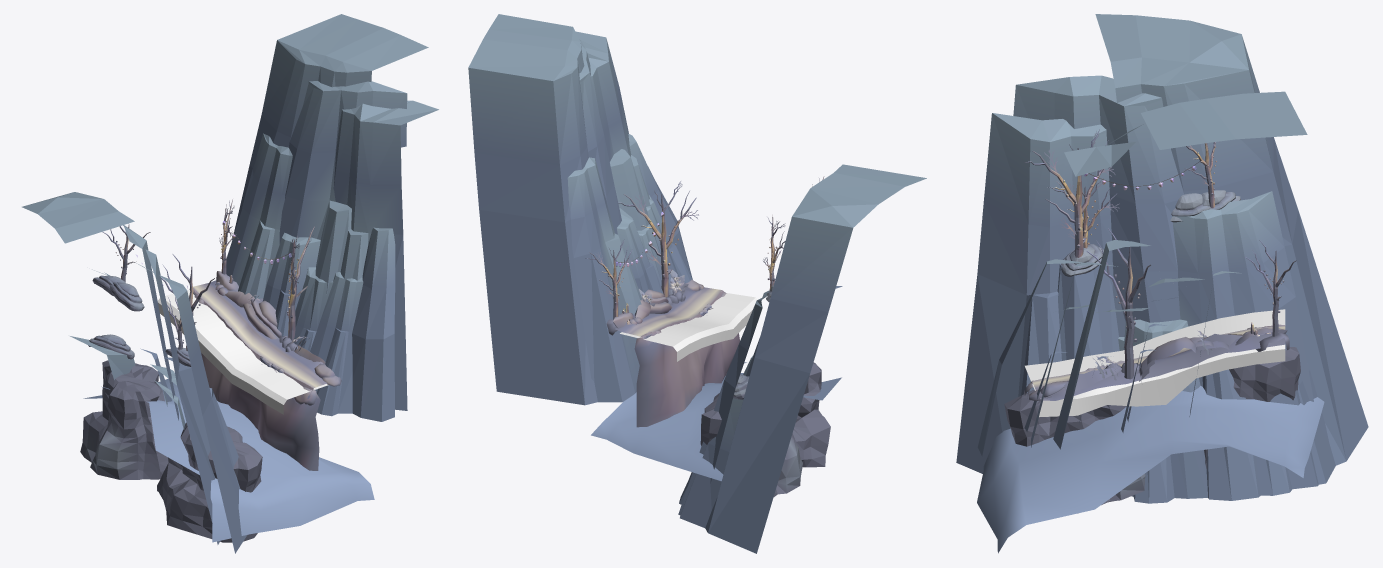
Rendered from Arctic_Narrows_Left_Curve_Left_10_A.glb.
3 renders of one model, left to right at view 1: azimuth 30°, elevation 25°; view 2: azimuth 150°, elevation 25°; view 3: azimuth 270°, elevation 25°, orthographic. The views are drawn at different scales.
Visible parts, largest first — view 1: Arctic_Narrows_Left_IceWall_A01, Arctic_Narrows_Left_Curve_Left_10_A, Arctic_Narrows_Left_IceWall_A01_Right, Arctic_Narrows_Right_IceWall_A01, Arctic_Narrows_Left_IceWall_A01_Left, inv_fill, Arctic_Narrows_Big_Rock_A01_Top (×2), Arctic_Narrows_Big_Rock_A01_Mid (×2), Arctic_Narrows_Big_Rock_A01 (2), Arctic_Narrows_Left_IceWall_A01_Mid, Arctic_Narrows_Big_Rock_A01 (3), Arctic_Narrows_Right_IceWall_A01_Right (+2 smaller); view 2: Arctic_Narrows_Left_IceWall_A01, Arctic_Narrows_Right_IceWall_A01, Arctic_Narrows_Left_Curve_Left_10_A, Arctic_Narrows_Left_IceWall_A01_Left, inv_fill, Arctic_Narrows_Left_IceWall_A01_Right, Arctic_Narrows_Right_IceWall_A01_Right, Arctic_Narrows_Right_IceWall_A01_Mid, Arctic_Narrows_Left_IceWall_A01_Mid, Arctic_Narrows_Big_Rock_A01_Mid, Arctic_Narrows_Big_Rock_A01 (3), Arctic_Narrows_Big_Rock_A01 (2) (+2 smaller); view 3: Arctic_Narrows_Right_IceWall_A01, Arctic_Narrows_Left_Curve_Left_10_A, Arctic_Narrows_Right_IceWall_A01_Mid, Arctic_Narrows_Left_IceWall_A01, inv_fill, Arctic_Narrows_Big_Rock_A01_Top (×2), Arctic_Narrows_Right_IceWall_A01_Right, Arctic_Narrows_Left_IceWall_A01_Right, Arctic_Narrows_Big_Rock_A01_Mid (×2), Arctic_BirchA_holiday, Arctic_BirchA_holiday (1).
Boxes of the visible parts, box(x1,y1,x2,y2) form: Arctic_Narrows_Left_IceWall_A01: box(233, 14, 438, 410); Arctic_Narrows_Left_Curve_Left_10_A: box(83, 271, 374, 542); Arctic_Narrows_Left_IceWall_A01_Right: box(293, 227, 395, 421); Arctic_Narrows_Right_IceWall_A01: box(22, 192, 247, 553); Arctic_Narrows_Left_IceWall_A01_Left: box(226, 133, 292, 298); inv_fill: box(157, 289, 328, 414); Arctic_Narrows_Big_Rock_A01_Top (×2): box(102, 360, 262, 487); Arctic_Narrows_Big_Rock_A01_Mid (×2): box(93, 384, 261, 507); Arctic_Narrows_Big_Rock_A01 (2): box(80, 412, 168, 479); Arctic_Narrows_Left_IceWall_A01_Mid: box(262, 232, 320, 336); Arctic_Narrows_Big_Rock_A01 (3): box(157, 472, 257, 542); Arctic_Narrows_Right_IceWall_A01_Right: box(70, 336, 135, 380); Arctic_Narrows_Left_IceWall_A01: box(468, 14, 652, 405); Arctic_Narrows_Right_IceWall_A01: box(705, 164, 926, 553); Arctic_Narrows_Left_Curve_Left_10_A: box(591, 279, 841, 481); Arctic_Narrows_Left_IceWall_A01_Left: box(567, 157, 641, 402); inv_fill: box(620, 293, 757, 361); Arctic_Narrows_Left_IceWall_A01_Right: box(628, 134, 692, 294); Arctic_Narrows_Right_IceWall_A01_Right: box(679, 398, 743, 527); Arctic_Narrows_Right_IceWall_A01_Mid: box(678, 290, 769, 515); Arctic_Narrows_Left_IceWall_A01_Mid: box(617, 207, 663, 293); Arctic_Narrows_Big_Rock_A01_Mid: box(792, 389, 830, 441); Arctic_Narrows_Big_Rock_A01 (3): box(795, 427, 830, 467); Arctic_Narrows_Big_Rock_A01 (2): box(691, 448, 802, 496); Arctic_Narrows_Right_IceWall_A01: box(956, 14, 1368, 473); Arctic_Narrows_Left_Curve_Left_10_A: box(977, 326, 1324, 553); Arctic_Narrows_Right_IceWall_A01_Mid: box(1118, 191, 1318, 503); Arctic_Narrows_Left_IceWall_A01: box(1031, 91, 1307, 449); inv_fill: box(1025, 309, 1285, 417); Arctic_Narrows_Big_Rock_A01_Top (×2): box(1004, 347, 1300, 437); Arctic_Narrows_Right_IceWall_A01_Right: box(1256, 363, 1335, 495); Arctic_Narrows_Left_IceWall_A01_Right: box(977, 259, 1185, 456); Arctic_Narrows_Big_Rock_A01_Mid (×2): box(1011, 380, 1298, 446); Arctic_BirchA_holiday: box(1108, 228, 1134, 379); Arctic_BirchA_holiday (1): box(1069, 129, 1099, 257).
Size of the model in its own units: 24.3 by 23.73 by 17.6.
